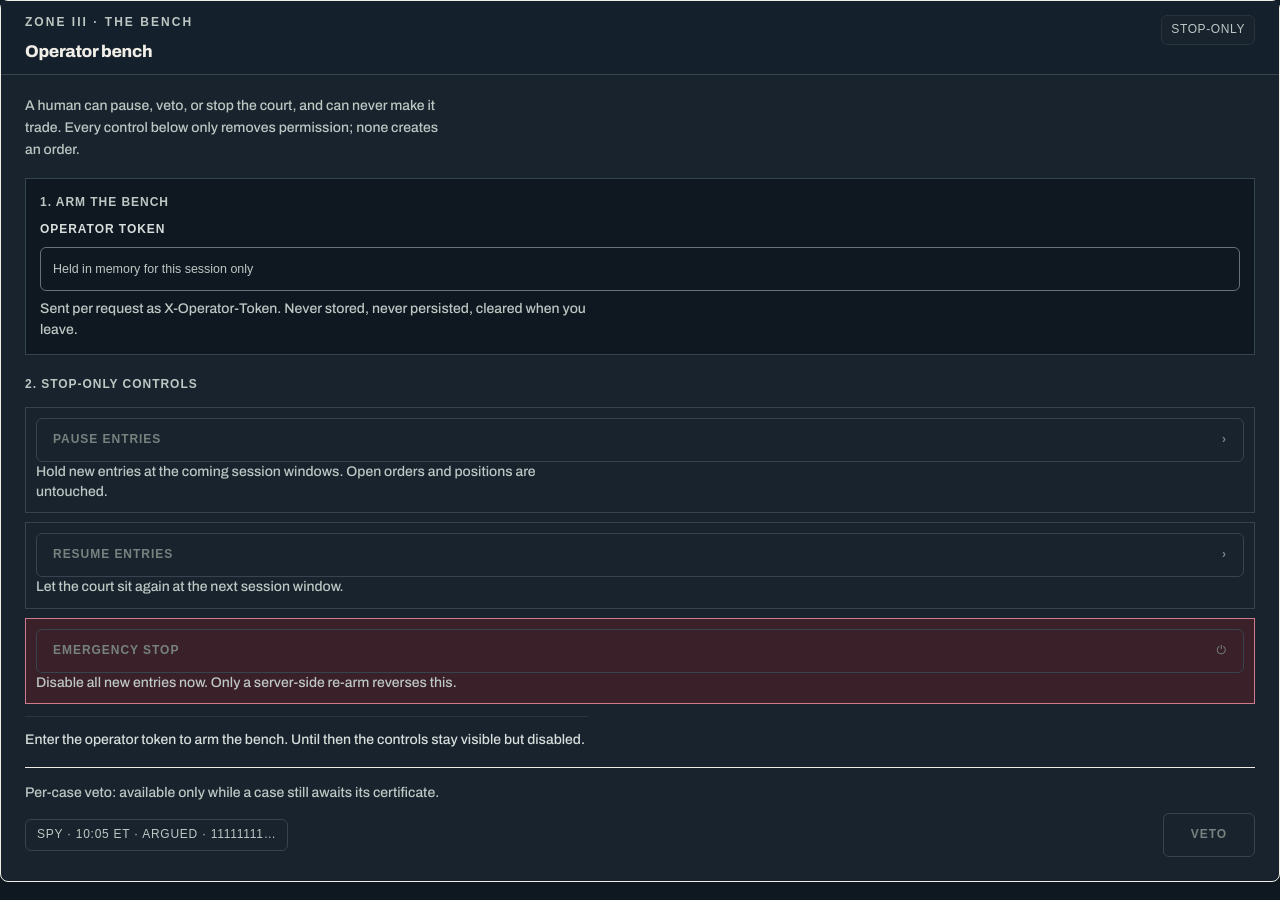
operator bench › surfaces unconfigured server controls (503) as a visible error
Type "token" into the password field labelled "Operator token" at (640, 269), box [40,247,1240,291]
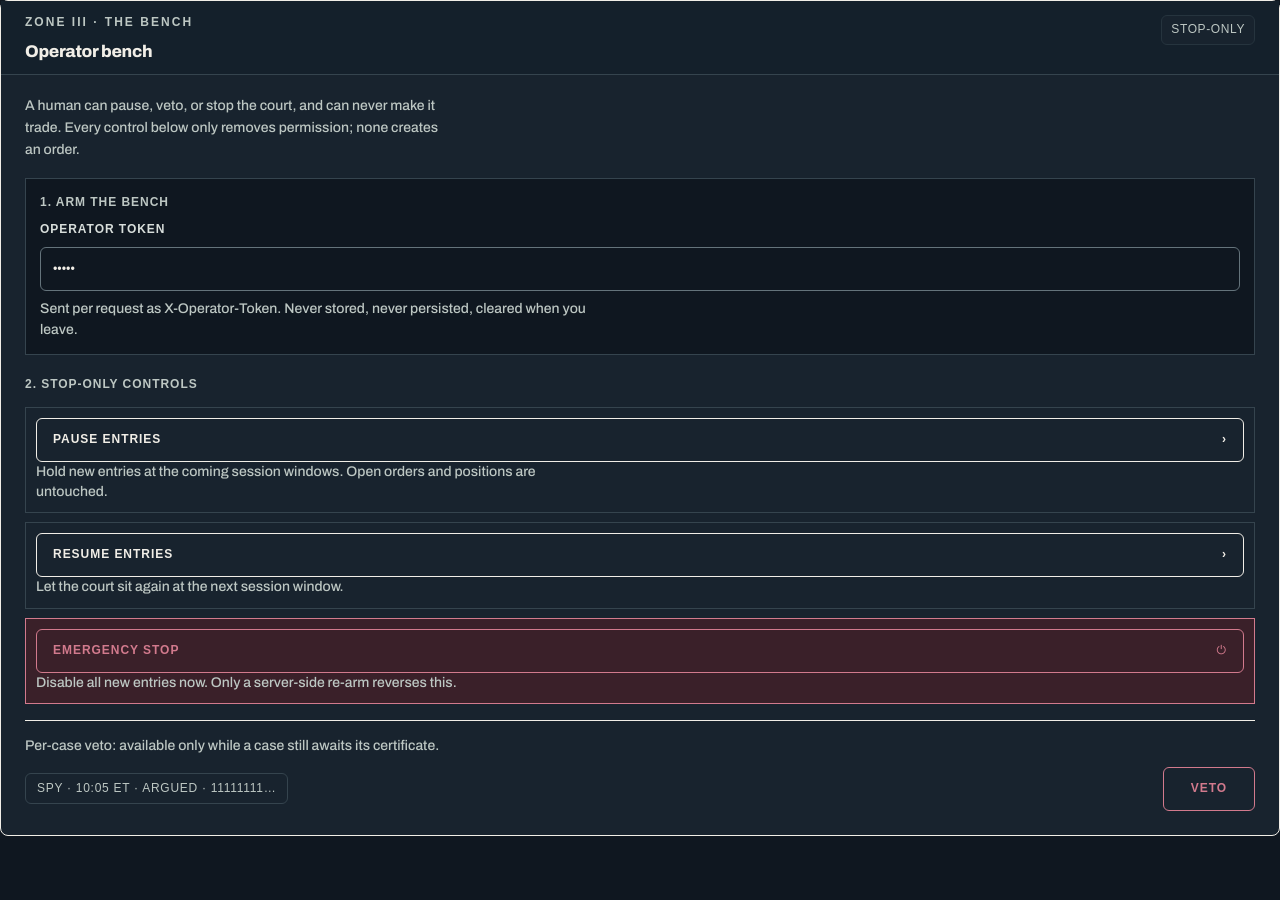
Click the button "Veto" at (1209, 788), box [1163,766,1255,810]
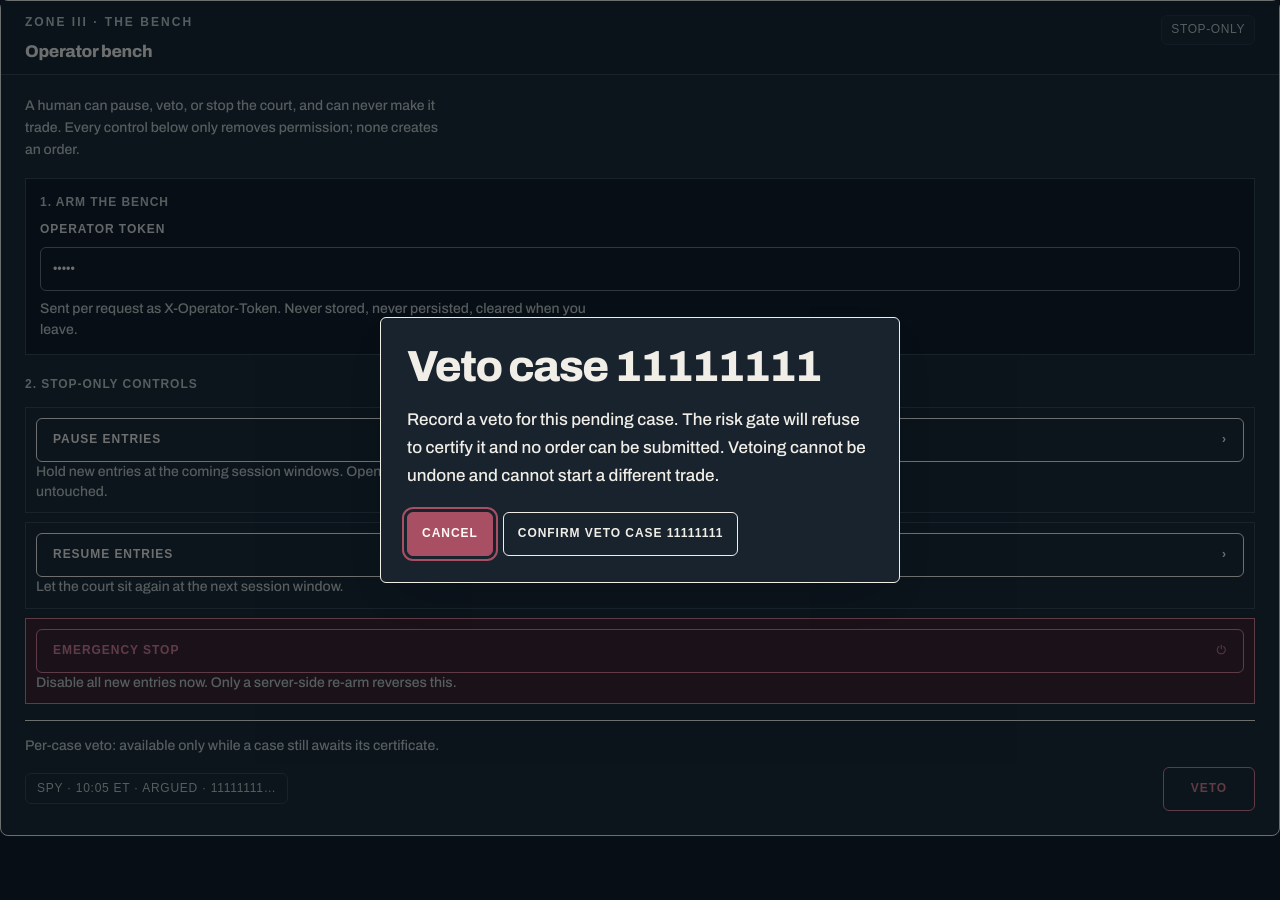
Click the button "Confirm Veto case 11111111" at (621, 534), box [503,512,738,556]
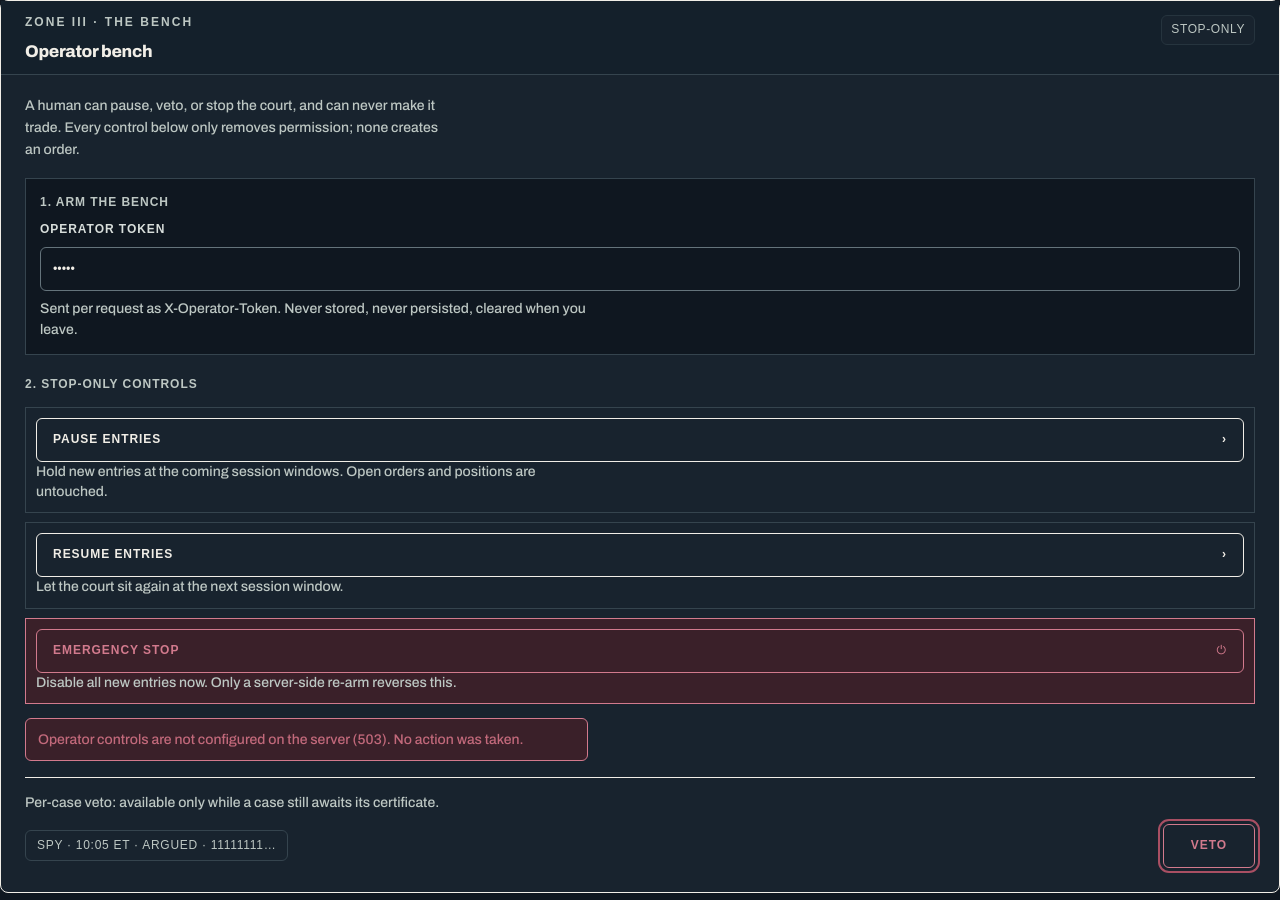
Check: the message shows "not configured on the server (503)", box [38,732,524,747]
